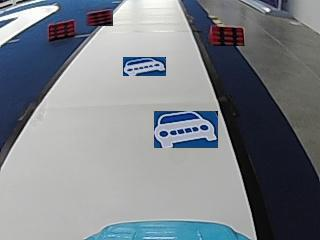bomb: (47, 18, 75, 40)
